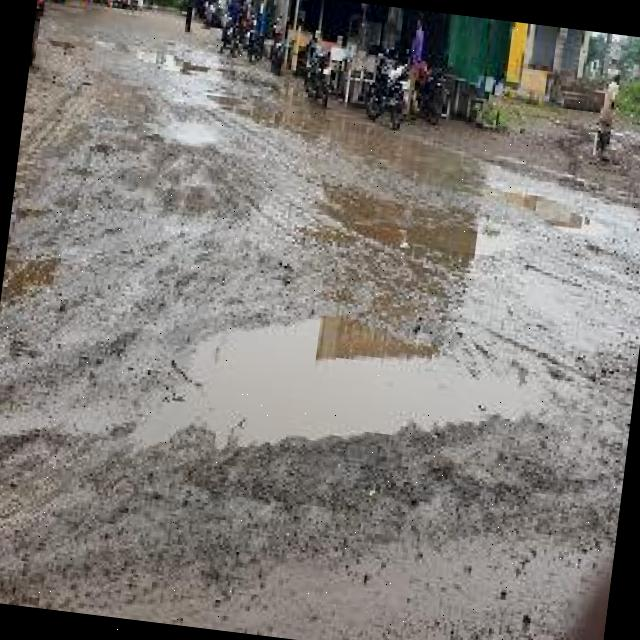waterlogging: (101, 276, 574, 509)
